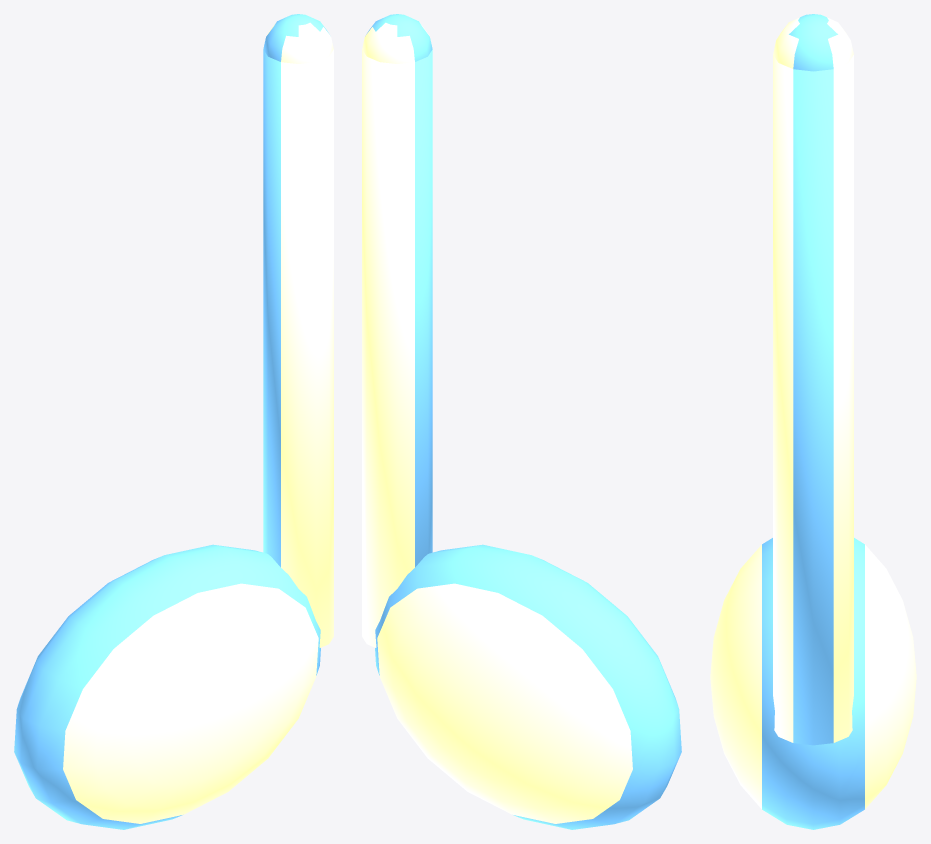
File: nota-seminima.glb
The picture shows the model from 3 angles, left to right: view 1: azimuth 30°, elevation 25°; view 2: azimuth 150°, elevation 25°; view 3: azimuth 270°, elevation 25°; orthographic projection. The views are drawn at different scales.
Parts seen in each view (by area): view 1: nota-seminima; view 2: nota-seminima; view 3: nota-seminima.
Boxes of the visible parts, x1=… form: nota-seminima: x1=14, y1=14, x2=333, y2=829; nota-seminima: x1=362, y1=14, x2=681, y2=829; nota-seminima: x1=710, y1=14, x2=916, y2=829.
Bounding box in the file's own units: 0.0687 × 0.1626 × 0.0347.
